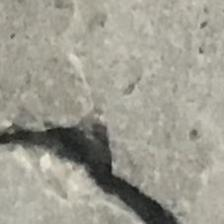Crack: (0, 96, 205, 224)
